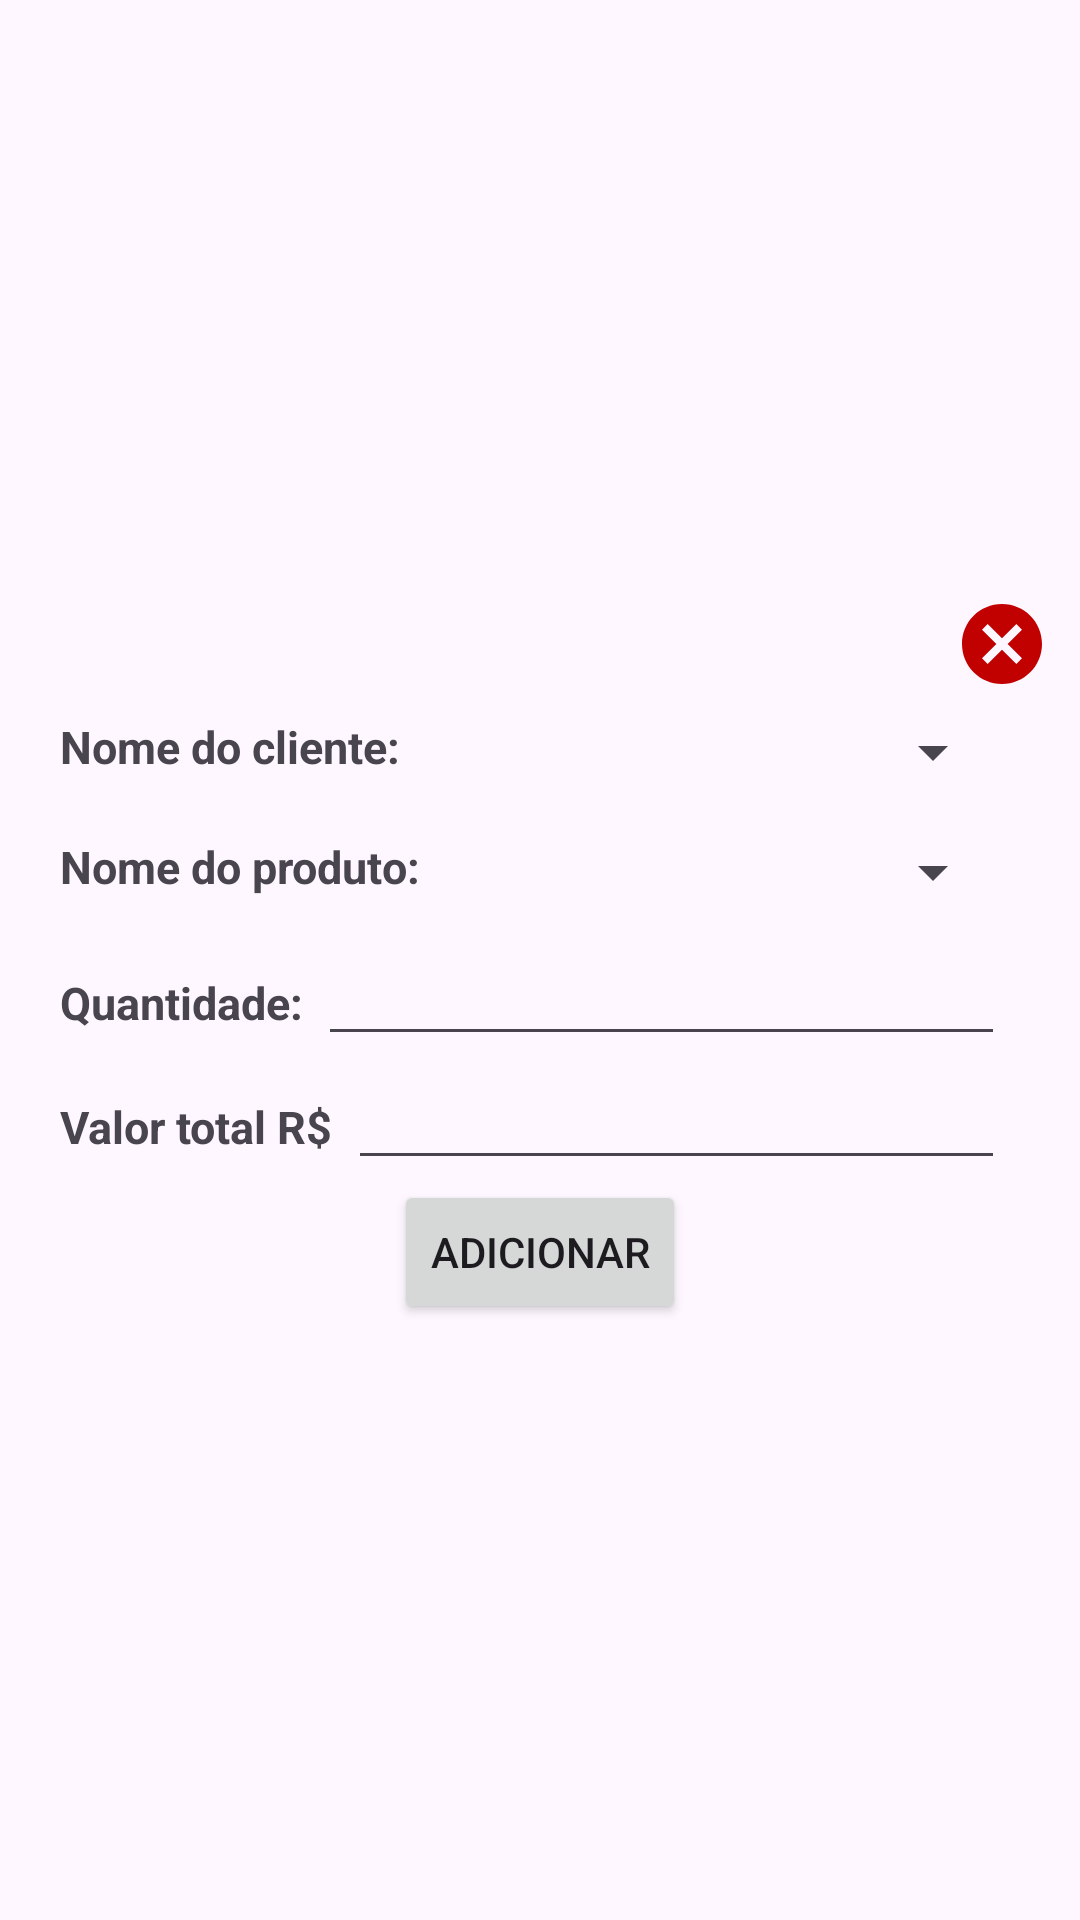

Named icons in this screenshot (1080*1920) and their bounding boxes, BBox(x1, y1, x2, y2):
close: BBox(962, 604, 1042, 684)
